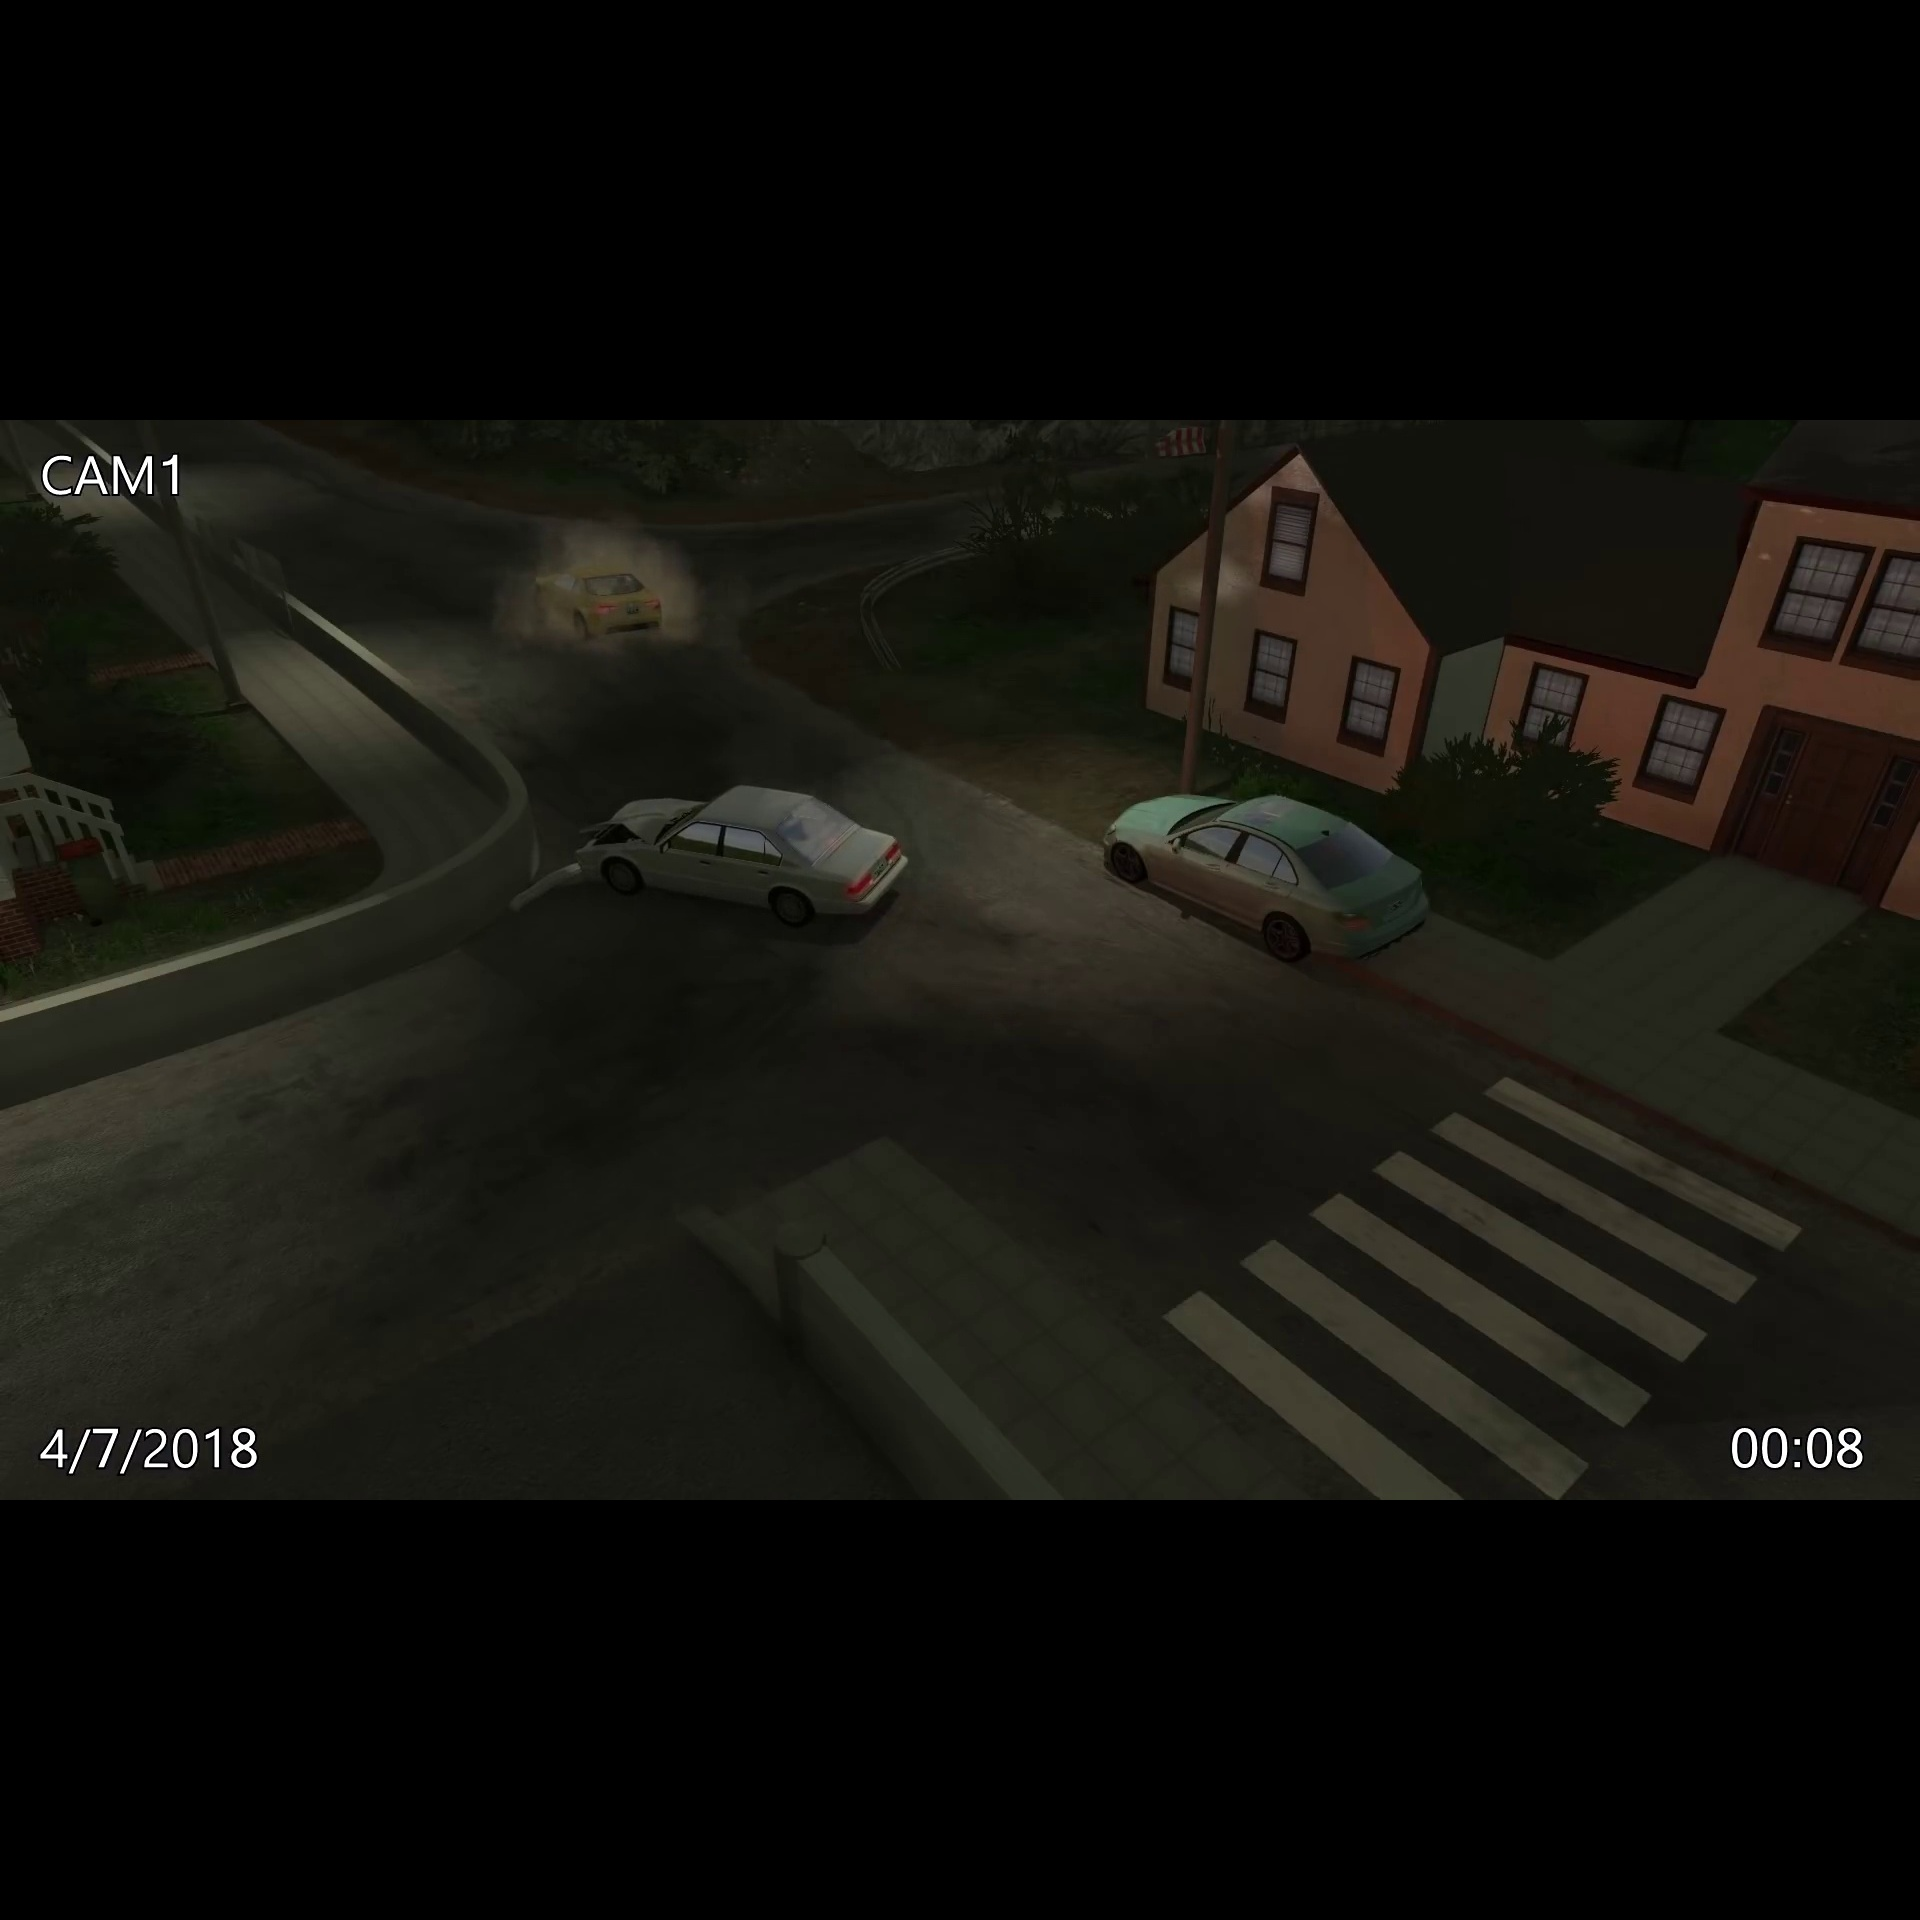vehicle: (1095, 777, 1436, 972), (575, 777, 920, 939), (529, 552, 668, 649)
